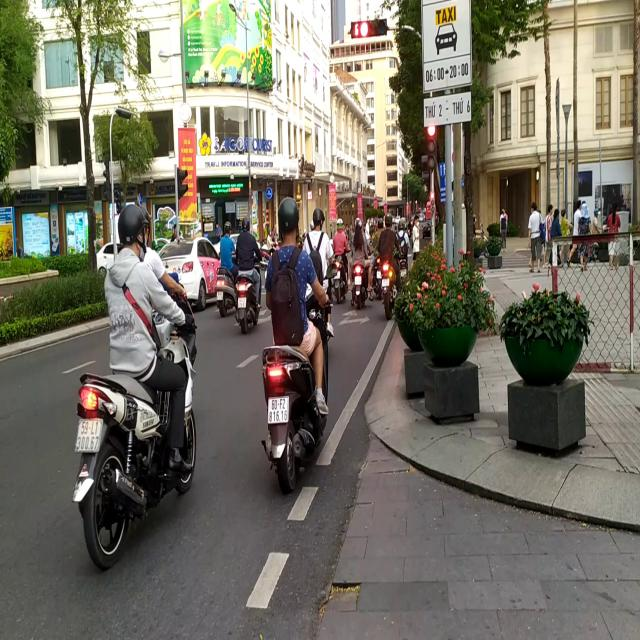bien_trang: (73, 418, 104, 462), (266, 394, 290, 426)
